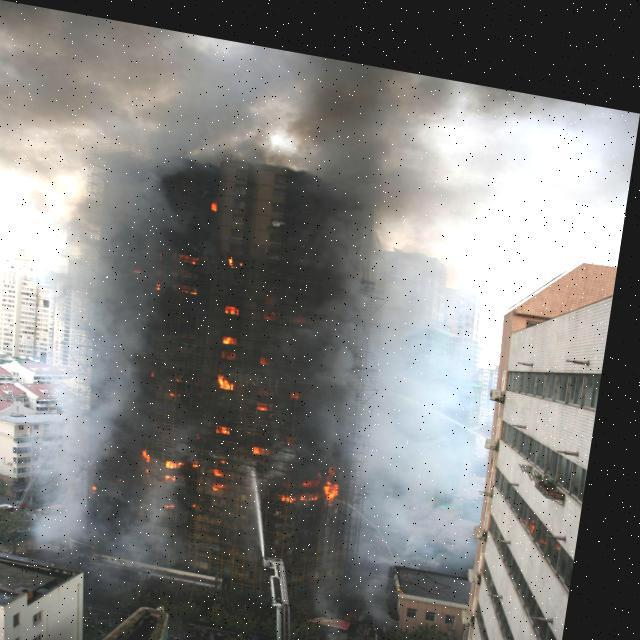Fire: (134, 196, 382, 527)
